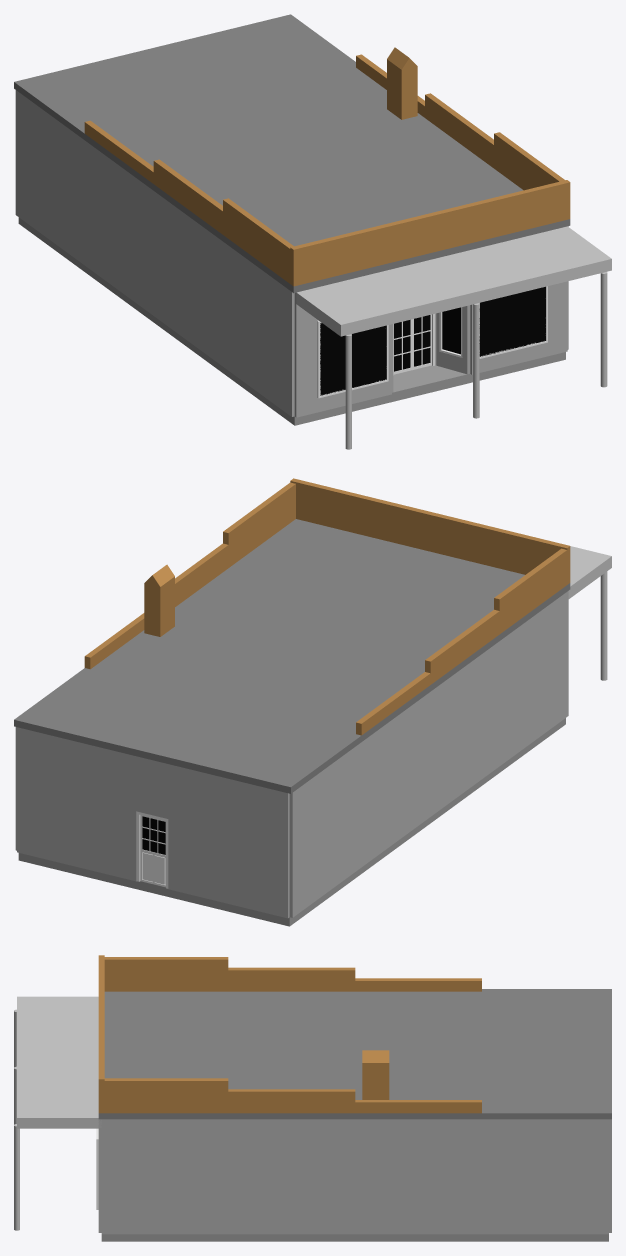
The model's file is building_phase_1b_iter_020.glb.
3 views of the same model, one above another, from view 1: azimuth 30°, elevation 25°; view 2: azimuth 150°, elevation 25°; view 3: azimuth 270°, elevation 25° (orthographic). The views are drawn at different scales.
Parts seen in each view (by area): view 1: Roof, Wall_Left, Canopy_Roof, Parapet_Front, Wall_Front, Foundation, Front_Right_Window_Glass, Front_Left_Window_Glass, Parapet_Left_Level_1, Parapet_Right_Level_1, Parapet_Left_Level_2, Parapet_Right_Level_2 (+8 smaller); view 2: Roof, Wall_Left, Wall_Rear, Parapet_Front, Foundation, Parapet_Left_Level_1, Parapet_Right_Level_1, Parapet_Left_Level_2, Parapet_Right_Level_2, Chimney, Canopy_Roof, Parapet_Left_Level_3 (+2 smaller); view 3: Wall_Right, Roof, Canopy_Roof, Parapet_Right_Level_1, Parapet_Left_Level_1, Foundation, Parapet_Left_Level_2, Parapet_Right_Level_2, Parapet_Left_Level_3, Parapet_Right_Level_3, Parapet_Front, Chimney (+2 smaller).
Part boxes in pixels (<box>): Roof: <box>14,14,570,293</box>; Wall_Left: <box>15,90,294,416</box>; Canopy_Roof: <box>296,226,611,336</box>; Parapet_Front: <box>290,180,570,286</box>; Wall_Front: <box>294,281,567,417</box>; Foundation: <box>18,217,565,425</box>; Front_Right_Window_Glass: <box>479,286,545,356</box>; Front_Left_Window_Glass: <box>320,323,386,395</box>; Parapet_Left_Level_1: <box>223,198,293,283</box>; Parapet_Right_Level_1: <box>494,132,564,190</box>; Parapet_Left_Level_2: <box>153,159,222,234</box>; Parapet_Right_Level_2: <box>425,93,493,168</box>; Roof: <box>14,519,570,793</box>; Wall_Left: <box>289,591,568,917</box>; Wall_Rear: <box>17,727,289,918</box>; Parapet_Front: <box>290,478,570,584</box>; Foundation: <box>18,718,565,926</box>; Parapet_Left_Level_1: <box>494,548,567,633</box>; Parapet_Right_Level_1: <box>223,482,295,567</box>; Parapet_Left_Level_2: <box>425,609,499,684</box>; Parapet_Right_Level_2: <box>175,543,228,606</box>; Chimney: <box>144,576,174,636</box>; Canopy_Roof: <box>568,546,611,598</box>; Parapet_Left_Level_3: <box>356,672,430,735</box>; Wall_Right: <box>101,1119,608,1234</box>; Roof: <box>98,989,611,1119</box>; Canopy_Roof: <box>17,996,101,1128</box>; Parapet_Right_Level_1: <box>101,1078,228,1113</box>; Parapet_Left_Level_1: <box>104,957,228,991</box>; Foundation: <box>101,1234,608,1241</box>; Parapet_Left_Level_2: <box>228,967,355,991</box>; Parapet_Right_Level_2: <box>228,1089,355,1113</box>; Parapet_Left_Level_3: <box>355,978,481,991</box>; Parapet_Right_Level_3: <box>355,1100,481,1113</box>; Parapet_Front: <box>98,955,104,1113</box>; Chimney: <box>362,1063,389,1099</box>.
Size of the model in its own units: 8.68 by 6.03 by 17.68.
